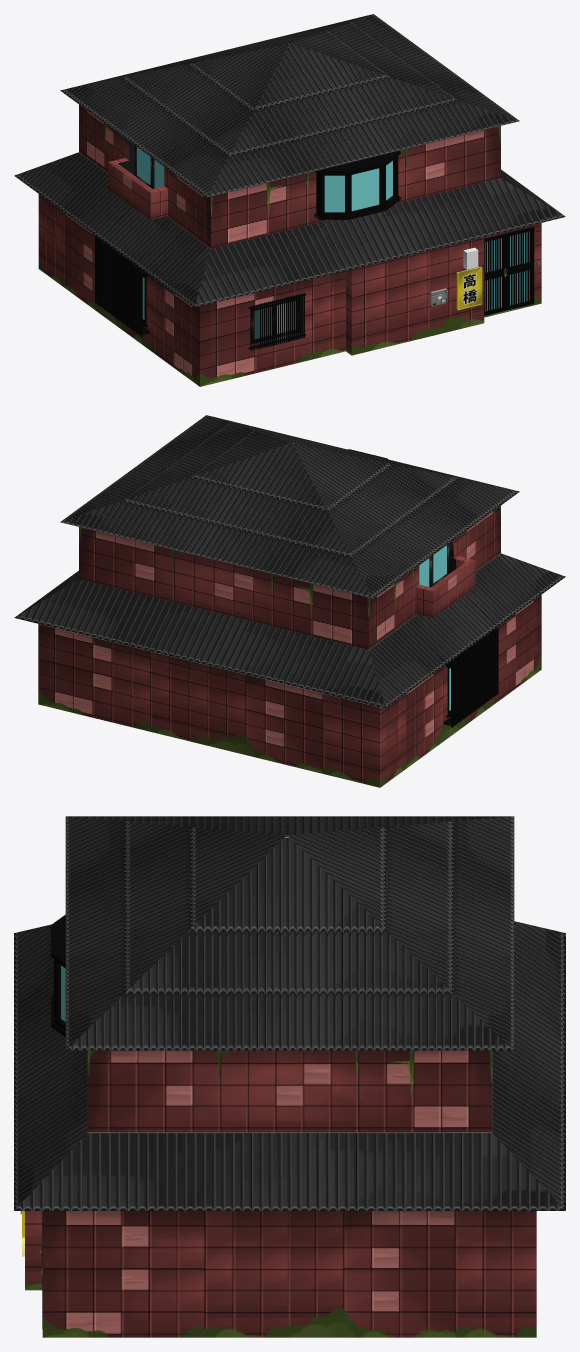
File: House_Takahashi.fbx
3 views of the same model, one above another, from view 1: azimuth 30°, elevation 25°; view 2: azimuth 150°, elevation 25°; view 3: azimuth 270°, elevation 25° (orthographic). The views are drawn at different scales.
Parts seen in each view (by area): view 1: A2, A, A3, Cube.054, Cube.056, Cube.078, Cube.058, Cube.071, Cube.063, Cube.067; view 2: A2, A, A3, Cube.054, Cube.067; view 3: A, A2, A3.
Boxes of the visible parts, x1=… form: A2: x1=14, y1=43, x2=565, y2=307; A: x1=60, y1=14, x2=519, y2=197; A3: x1=38, y1=194, x2=541, y2=386; Cube.054: x1=95, y1=236, x2=142, y2=336; Cube.056: x1=250, y1=293, x2=304, y2=350; Cube.078: x1=506, y1=226, x2=534, y2=310; Cube.058: x1=484, y1=233, x2=506, y2=315; Cube.071: x1=456, y1=266, x2=482, y2=310; Cube.063: x1=251, y1=298, x2=299, y2=344; Cube.067: x1=134, y1=145, x2=164, y2=188; A2: x1=14, y1=442, x2=565, y2=708; A: x1=60, y1=415, x2=519, y2=598; A3: x1=38, y1=595, x2=541, y2=787; Cube.054: x1=451, y1=627, x2=498, y2=727; Cube.067: x1=419, y1=543, x2=449, y2=587; A: x1=65, y1=816, x2=514, y2=1050; A2: x1=14, y1=835, x2=565, y2=1210; A3: x1=25, y1=1211, x2=536, y2=1337.
Size of the model in its own units: 1371 by 860 by 1151.
